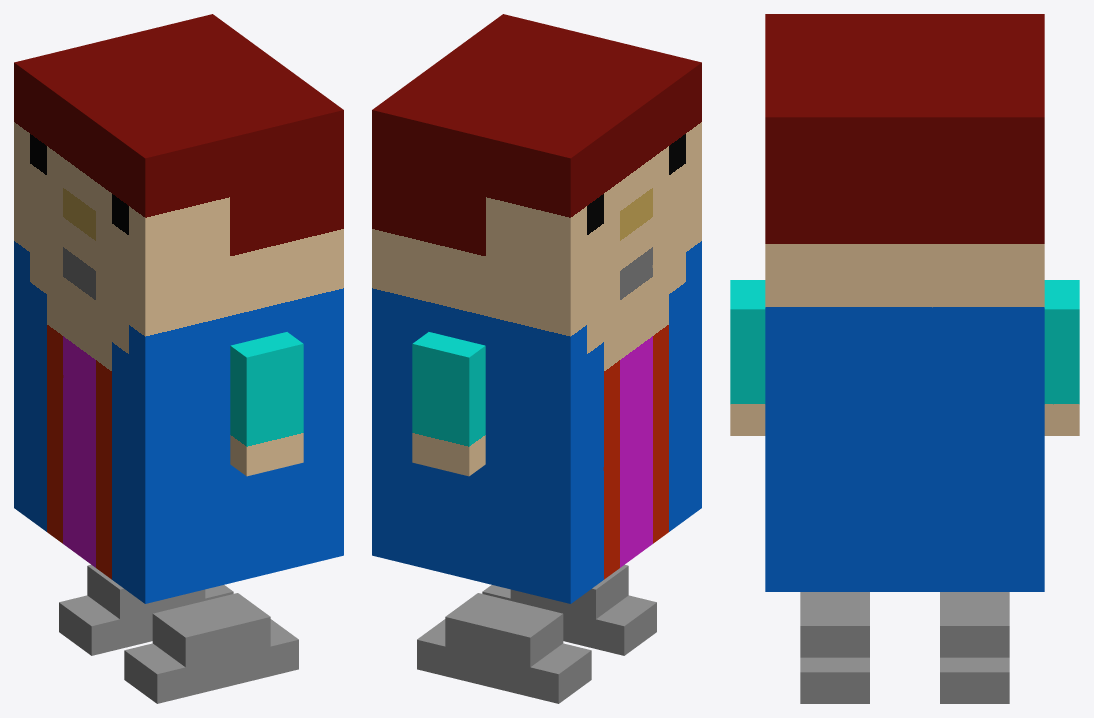
Rendered from Player_9.fbx.
3 views of the same model, side by side, from view 1: azimuth 30°, elevation 25°; view 2: azimuth 150°, elevation 25°; view 3: azimuth 270°, elevation 25° (orthographic). The views are drawn at different scales.
Parts seen in each view (by area): view 1: Main, LeftFoot, LeftHand, RightFoot; view 2: Main, RightFoot, RightHand, LeftFoot; view 3: Main, LeftFoot, RightFoot, RightHand, LeftHand.
Boxes of the visible parts, x1,y1,x2,y2 form: Main: (14, 14, 343, 603); LeftFoot: (124, 593, 298, 703); LeftHand: (230, 332, 303, 476); RightFoot: (59, 564, 233, 655); Main: (372, 14, 701, 603); RightFoot: (417, 593, 591, 703); RightHand: (412, 332, 485, 476); LeftFoot: (482, 564, 656, 655); Main: (765, 14, 1044, 591); LeftFoot: (800, 592, 869, 703); RightFoot: (940, 592, 1009, 703); RightHand: (1044, 280, 1079, 435); LeftHand: (730, 280, 765, 435).
Size of the model in its own units: 7 by 19 by 10.
1 material, 1 textured.
